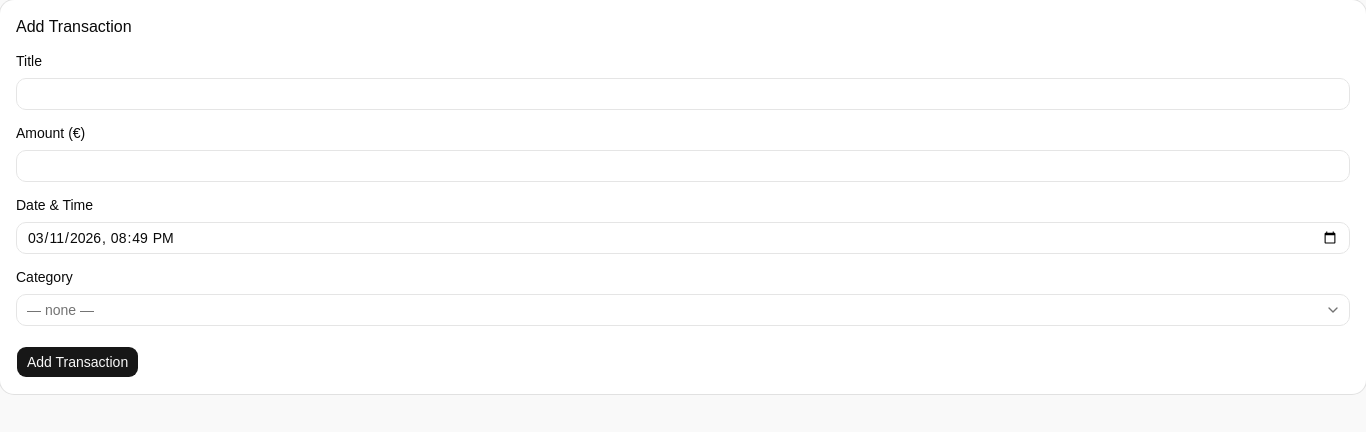
Test: given the form is submitted without filling the amount › should show an 'Amount is required' error
Type "Salary" into the field labelled "Title" at (683,94), box [16,78,1350,110]
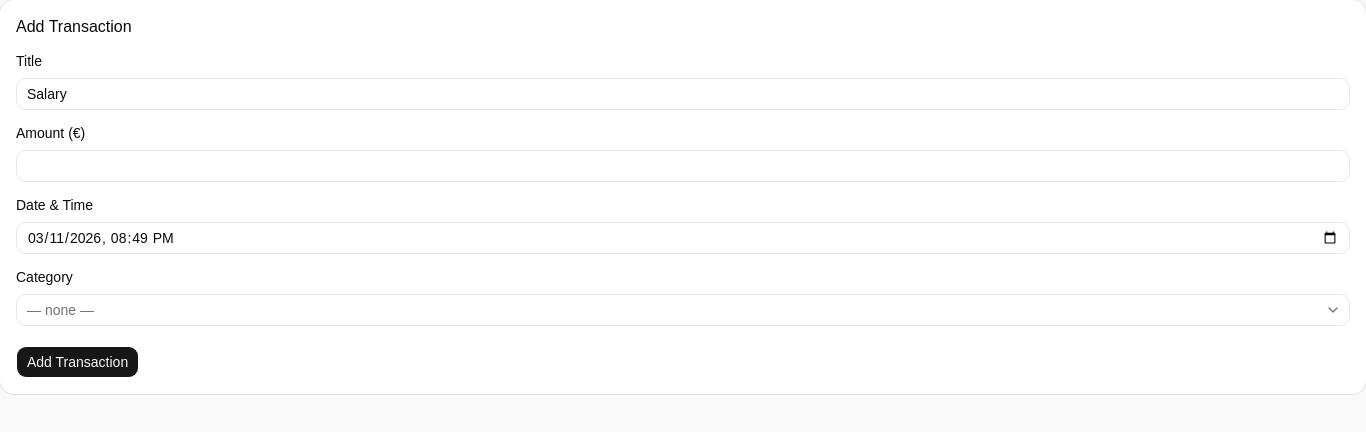
Click the button "Add Transaction" at (78,362), box [16,346,139,378]
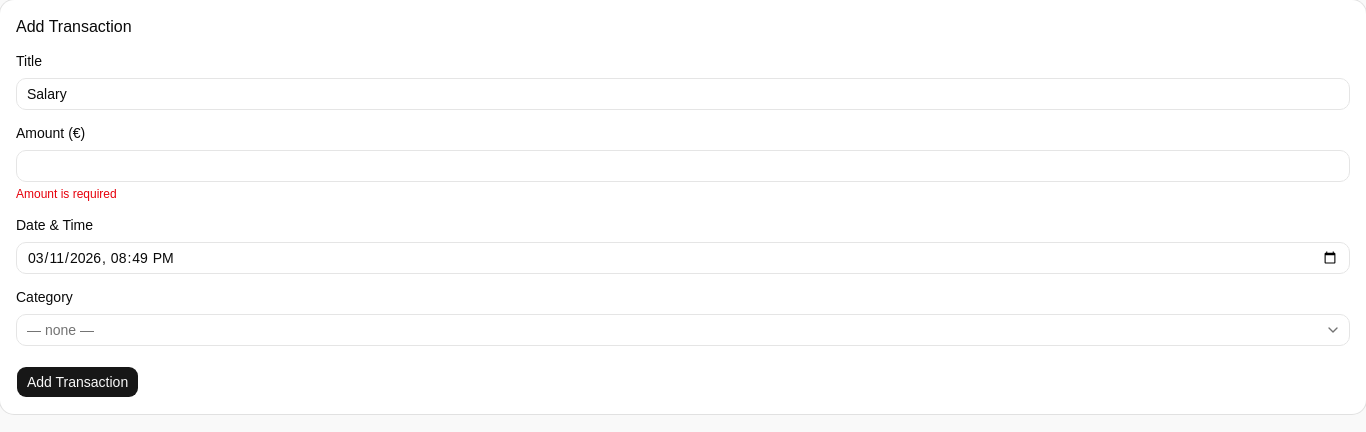
Expected: the text "Amount is required" is shown, [16,187,117,201]
